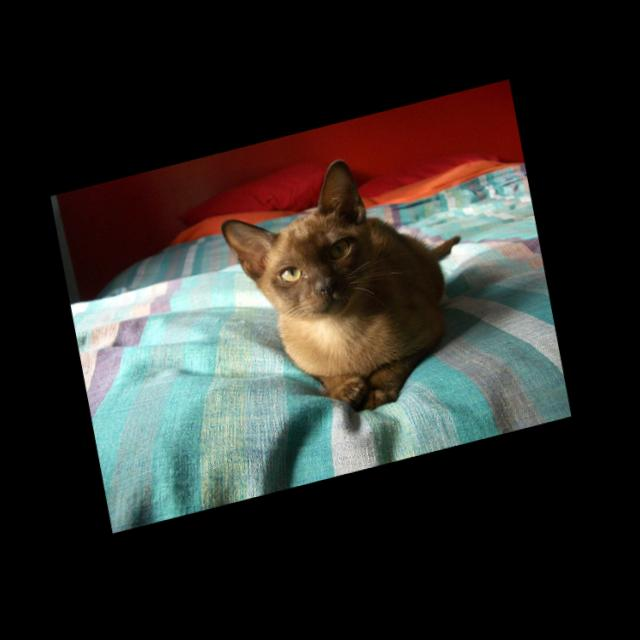animals: (217, 157, 383, 320)
